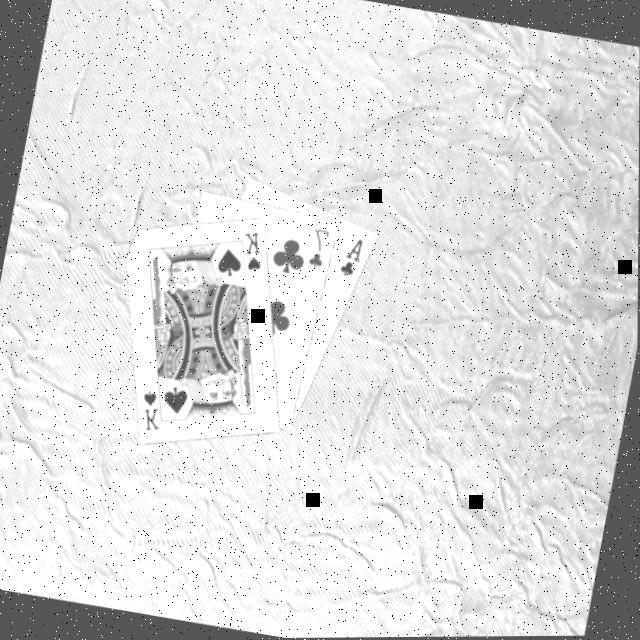7C: (302, 225, 332, 274)
AC: (335, 235, 366, 282)
KS: (133, 381, 172, 437), (233, 228, 269, 278)
